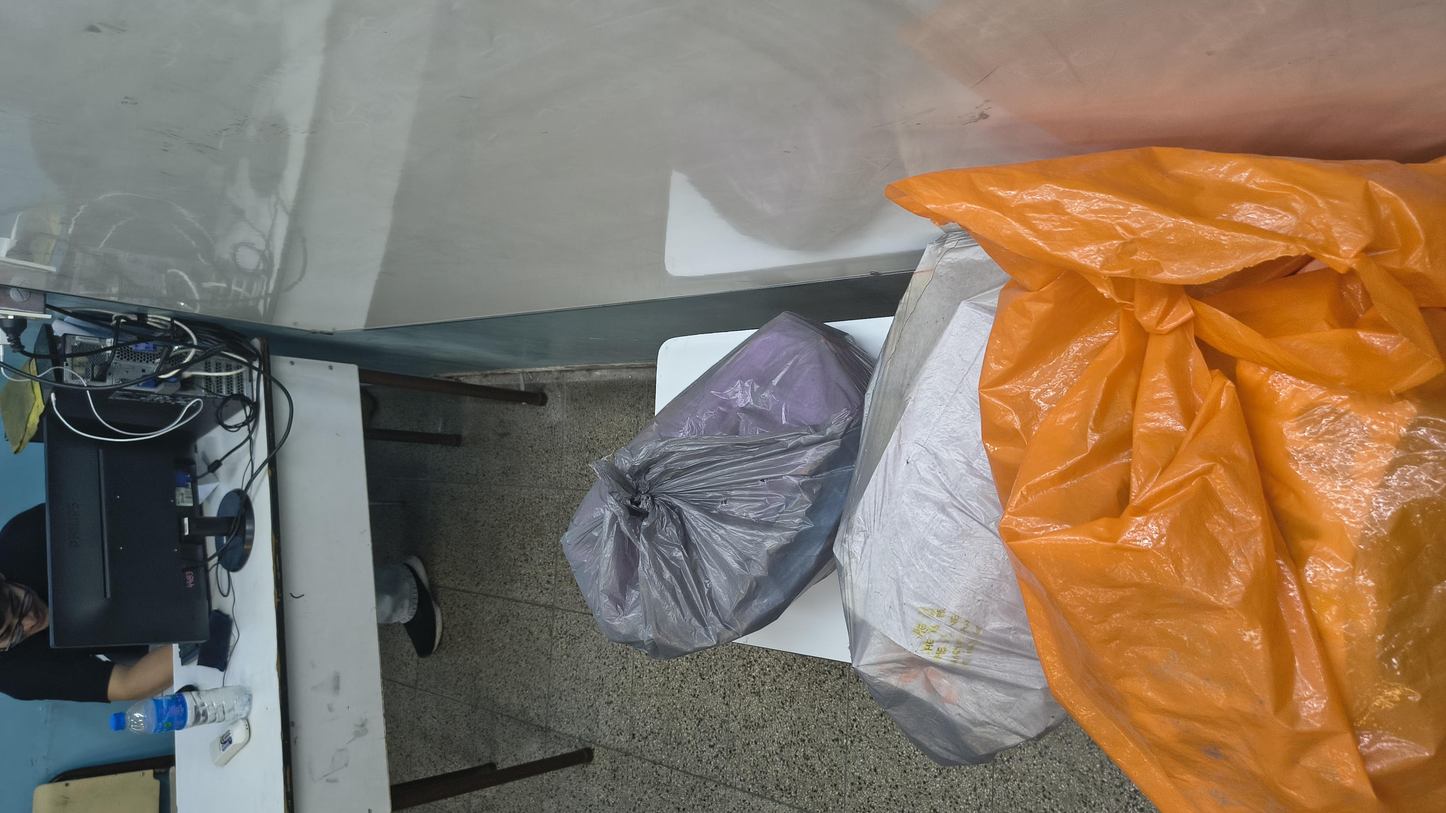Garbage: (0, 496, 1236, 813), (82, 451, 1048, 607), (282, 302, 923, 496)
